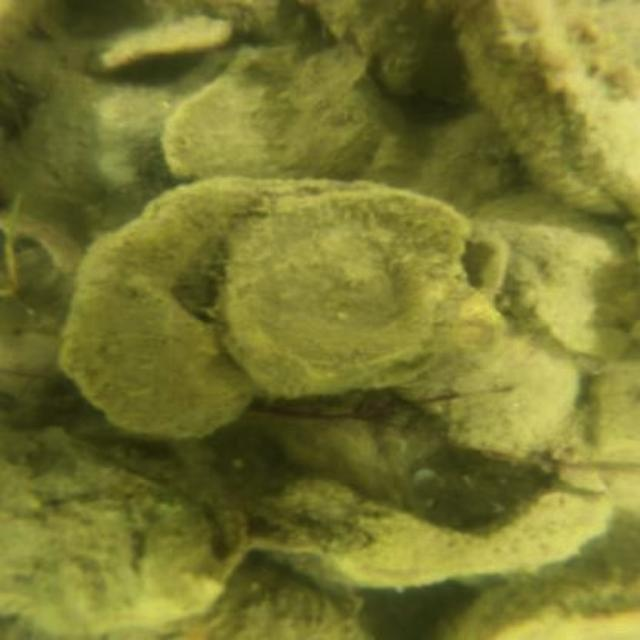Oyster-Closed: (63, 178, 252, 438), (0, 435, 239, 633), (463, 0, 635, 213), (163, 50, 383, 177), (457, 529, 634, 634), (216, 560, 359, 638)
Oyster-Open: (232, 193, 511, 390)
